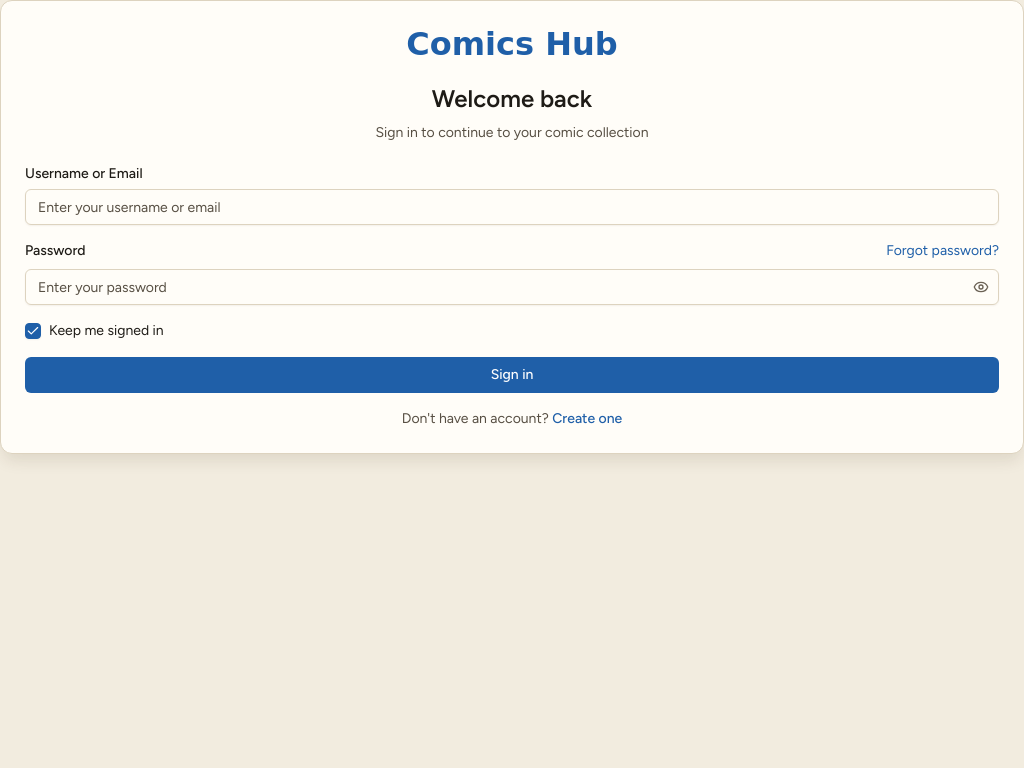
Test case: LoginPage › shows fallback error message when response has no error field
Type "testuser" into the field labelled "Username or Email" at (512, 207), box x1=25 y1=189 x2=999 y2=225
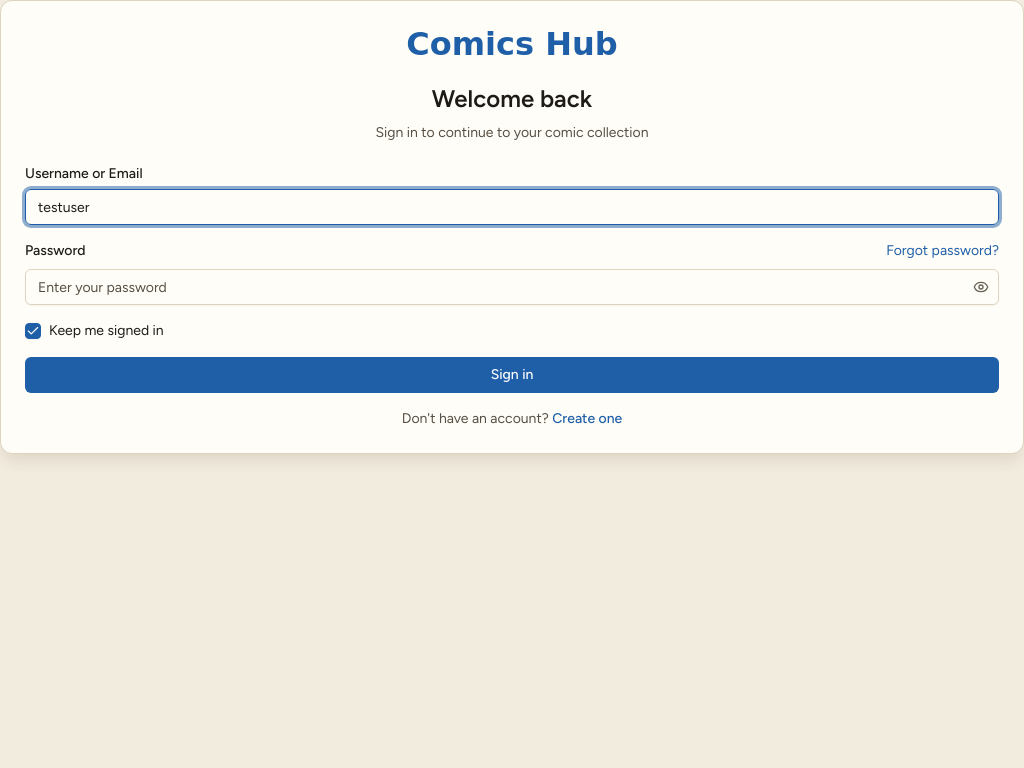
Type "Password1!" into the password field labelled "Password" at (512, 287), box x1=25 y1=269 x2=999 y2=305
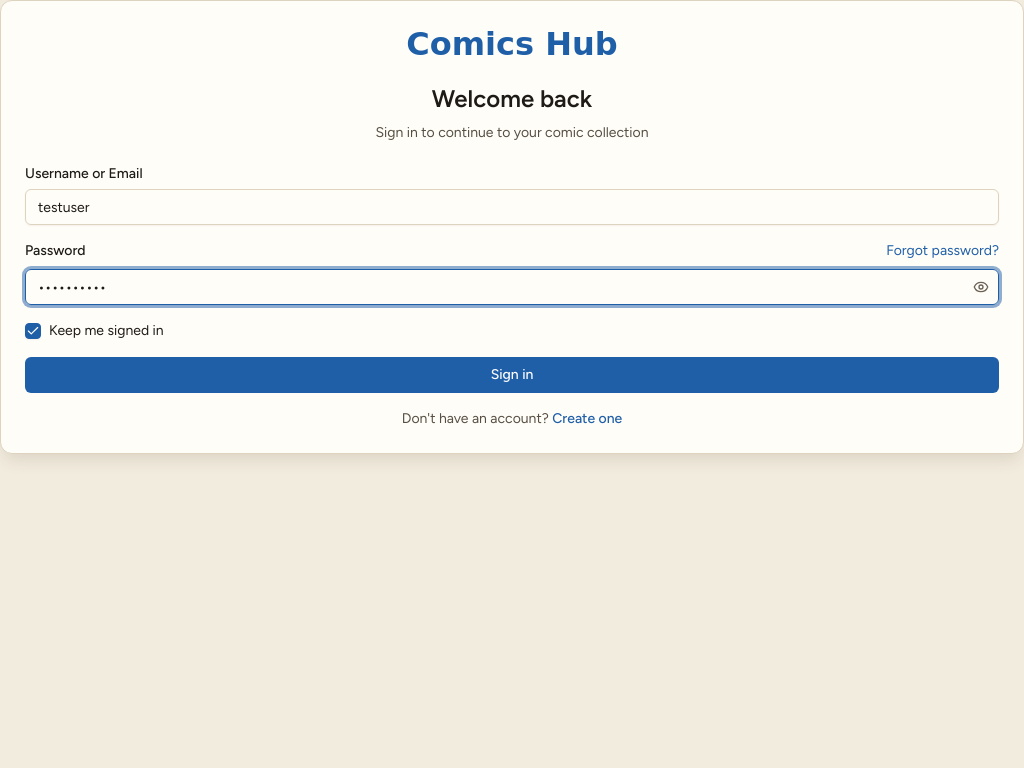
Click the button "Sign in" at (512, 375), box x1=25 y1=357 x2=999 y2=393
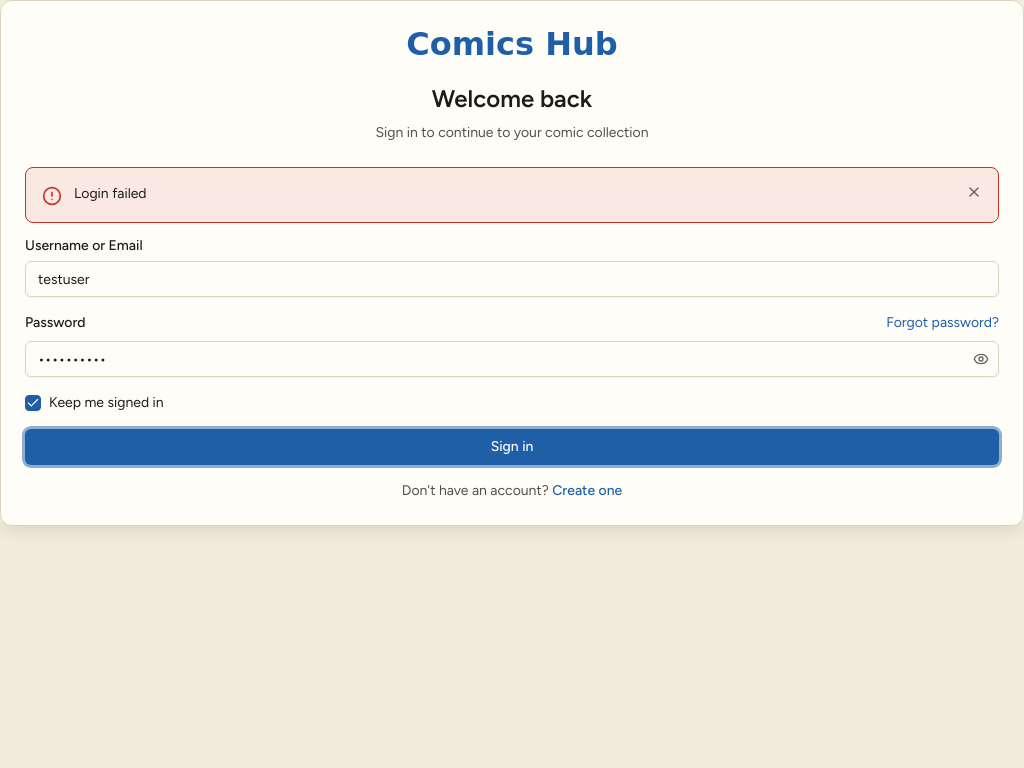
Result: the text "Login failed" is shown at x1=74 y1=185 x2=147 y2=202
